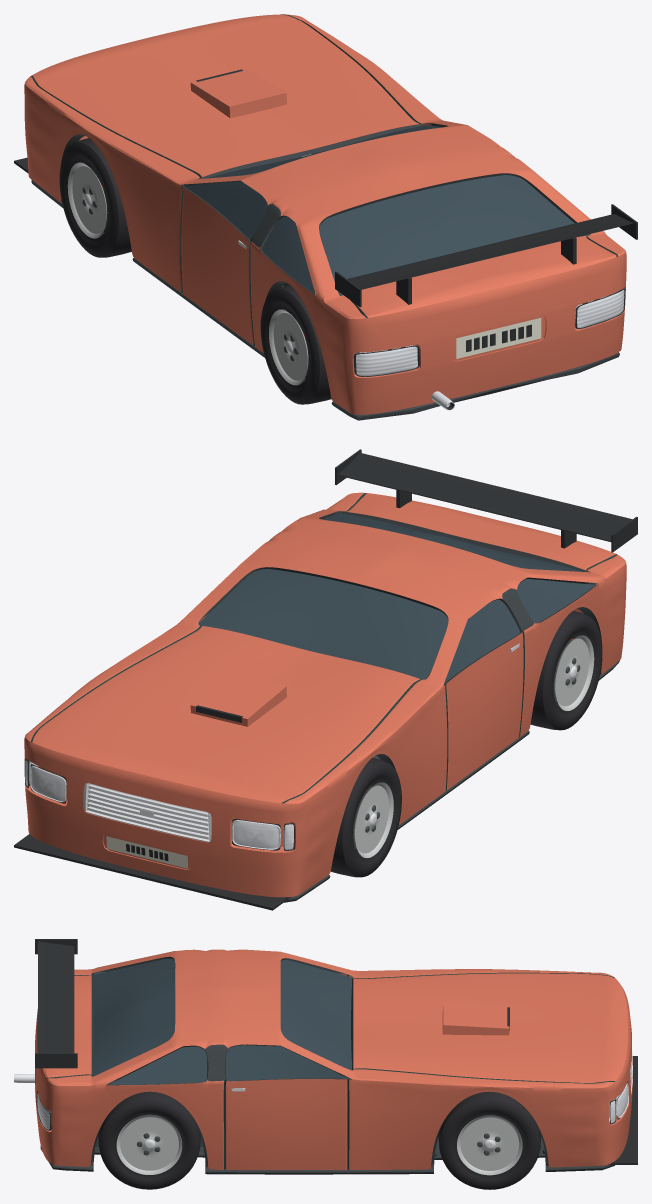
File: forge_closed_gt.fbx
3 views of the same model, one above another, from view 1: azimuth 30°, elevation 25°; view 2: azimuth 150°, elevation 25°; view 3: azimuth 270°, elevation 25° (orthographic). The views are drawn at different scales.
Parts seen in each view (by area): view 1: Body, Wheel_FL_Mesh, Wheel_RL_Mesh; view 2: Body, Wheel_RL_Mesh, Wheel_FL_Mesh; view 3: Body, Wheel_FR_Mesh, Wheel_RR_Mesh.
Boxes of the visible parts, box(x1,y1,x2,y2) form: Body: box(14, 14, 637, 420); Wheel_FL_Mesh: box(59, 138, 131, 257); Wheel_RL_Mesh: box(260, 285, 331, 404); Body: box(14, 449, 637, 910); Wheel_RL_Mesh: box(530, 610, 602, 730); Wheel_FL_Mesh: box(330, 757, 401, 877); Body: box(14, 939, 637, 1174); Wheel_FR_Mesh: box(438, 1091, 541, 1189); Wheel_RR_Mesh: box(98, 1091, 200, 1189).
Bounding box in the file's own units: 179 × 101 × 394.
